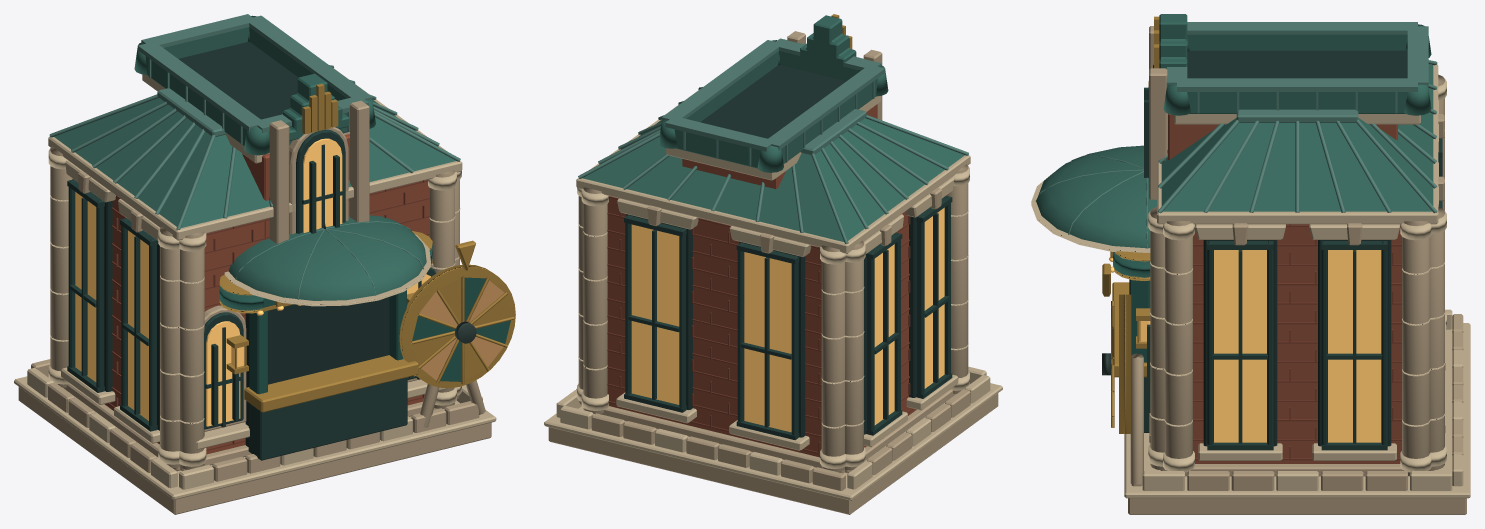
3 views of the same model, side by side, from view 1: azimuth 30°, elevation 25°; view 2: azimuth 150°, elevation 25°; view 3: azimuth 270°, elevation 25° (orthographic). The views are drawn at different scales.
Visible parts, largest first — view 1: expansion_chance_wheel_geometry, expansion_wheel_geometry; view 2: expansion_chance_wheel_geometry; view 3: expansion_chance_wheel_geometry, expansion_wheel_geometry.
Boxes of the visible parts, box(x1,y1,x2,y2) form: expansion_chance_wheel_geometry: box(14, 14, 496, 514); expansion_wheel_geometry: box(399, 264, 515, 388); expansion_chance_wheel_geometry: box(544, 14, 1002, 514); expansion_chance_wheel_geometry: box(1031, 14, 1470, 514); expansion_wheel_geometry: box(1102, 294, 1131, 433).
Bounding box in the file's own units: 1.01 × 1.08 × 1.04.
